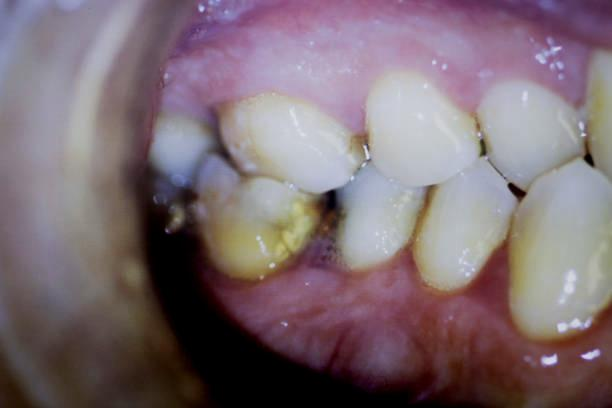Calculus: (189, 176, 338, 300)
